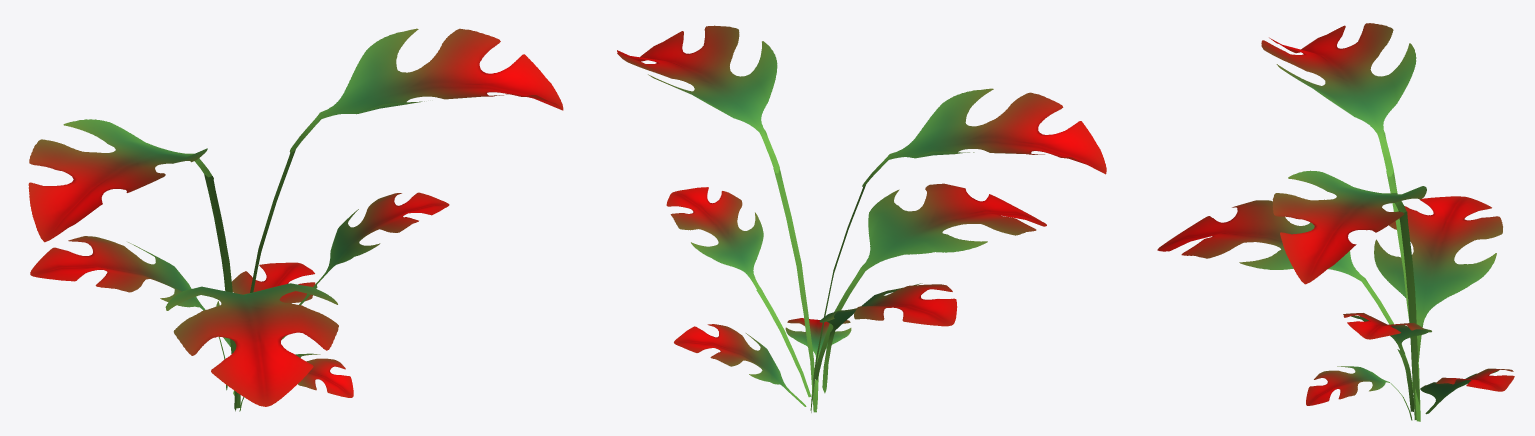
Rendered from RedMonstera.fbx.
3 renders of one model, left to right at view 1: azimuth 30°, elevation 25°; view 2: azimuth 150°, elevation 25°; view 3: azimuth 270°, elevation 25°, orthographic. The views are drawn at different scales.
Parts seen in each view (by area): view 1: Red Monstera.008; view 2: Red Monstera.008; view 3: Red Monstera.008.
Boxes of the visible parts, x1,y1,x2,y2 form: Red Monstera.008: (28,28,563,411); Red Monstera.008: (617,25,1106,412); Red Monstera.008: (1157,23,1514,421).
Size of the model in its own units: 213 by 129 by 139.
Materials: 1 (1 with a texture image).
